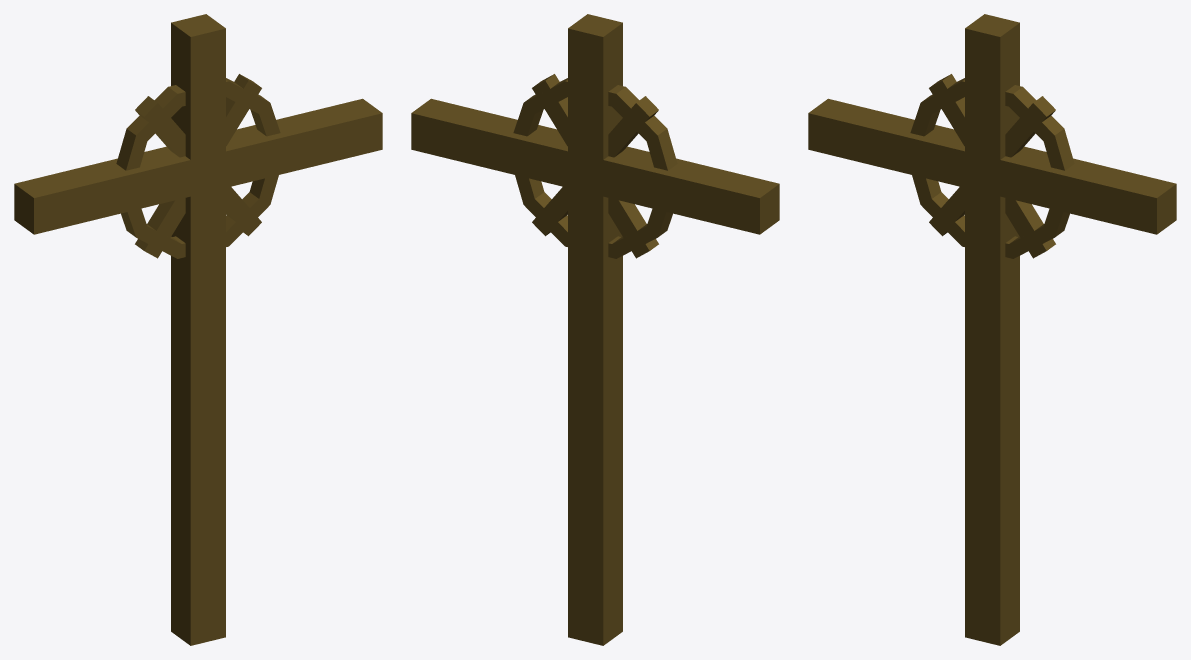
File: cross_var01_MASTER.fbx
3 renders of one model, left to right at view 1: azimuth 30°, elevation 25°; view 2: azimuth 150°, elevation 25°; view 3: azimuth 330°, elevation 25°, orthographic.
Parts seen in each view (by area): view 1: crossStraight, crossRound, crossCrossSection, crossCrossSection1; view 2: crossStraight, crossRound, crossCrossSection, crossCrossSection1; view 3: crossStraight, crossRound, crossCrossSection1, crossCrossSection.
Boxes of the visible parts, bbox=[...] form: crossStraight: bbox=[14, 14, 382, 645]; crossRound: bbox=[116, 78, 280, 258]; crossCrossSection: bbox=[135, 74, 261, 258]; crossCrossSection1: bbox=[135, 96, 261, 236]; crossStraight: bbox=[411, 14, 779, 645]; crossRound: bbox=[513, 78, 677, 258]; crossCrossSection: bbox=[532, 74, 658, 258]; crossCrossSection1: bbox=[532, 96, 658, 236]; crossStraight: bbox=[808, 14, 1176, 645]; crossRound: bbox=[910, 78, 1074, 258]; crossCrossSection1: bbox=[929, 74, 1055, 258]; crossCrossSection: bbox=[929, 96, 1055, 236].
Bounding box in the file's own units: 787 × 1314 × 77.34.
